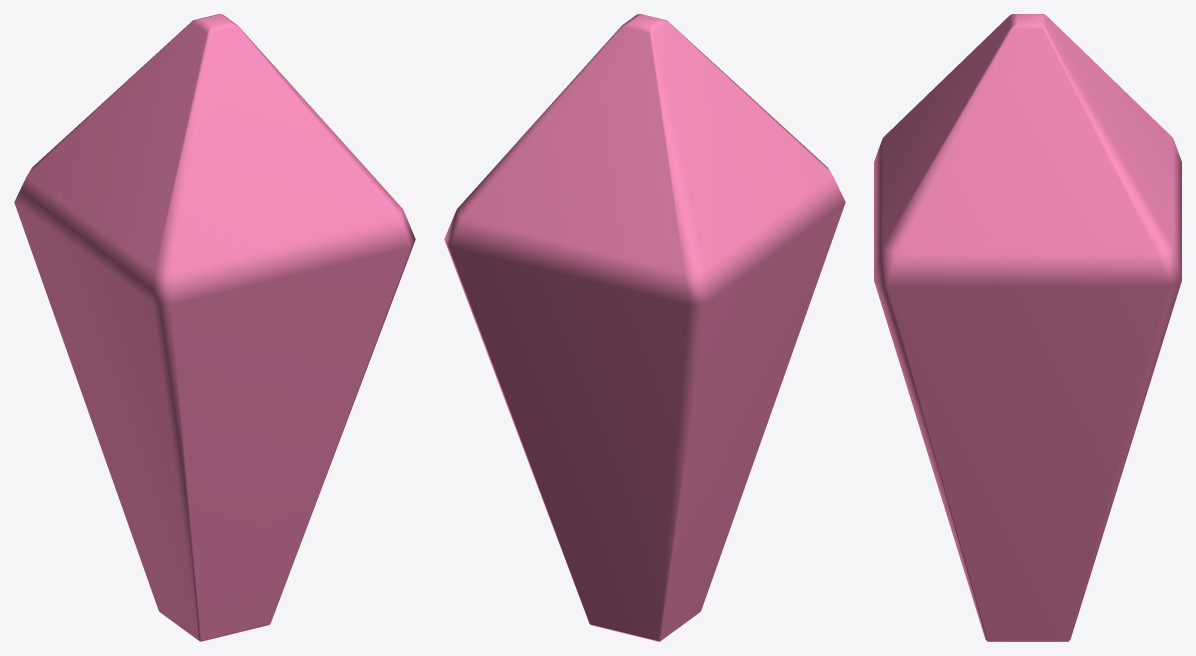
File: Crystal4.fbx
3 views of the same model, side by side, from view 1: azimuth 30°, elevation 25°; view 2: azimuth 150°, elevation 25°; view 3: azimuth 270°, elevation 25° (orthographic).
Parts seen in each view (by area): view 1: Crystal4; view 2: Crystal4; view 3: Crystal4.
Part boxes in pixels (x1,y1,x2,y2): Crystal4: [14, 14, 415, 641]; Crystal4: [444, 14, 845, 641]; Crystal4: [874, 14, 1181, 641].
Size of the model in its own units: 43.59 by 94.7 by 43.59.
